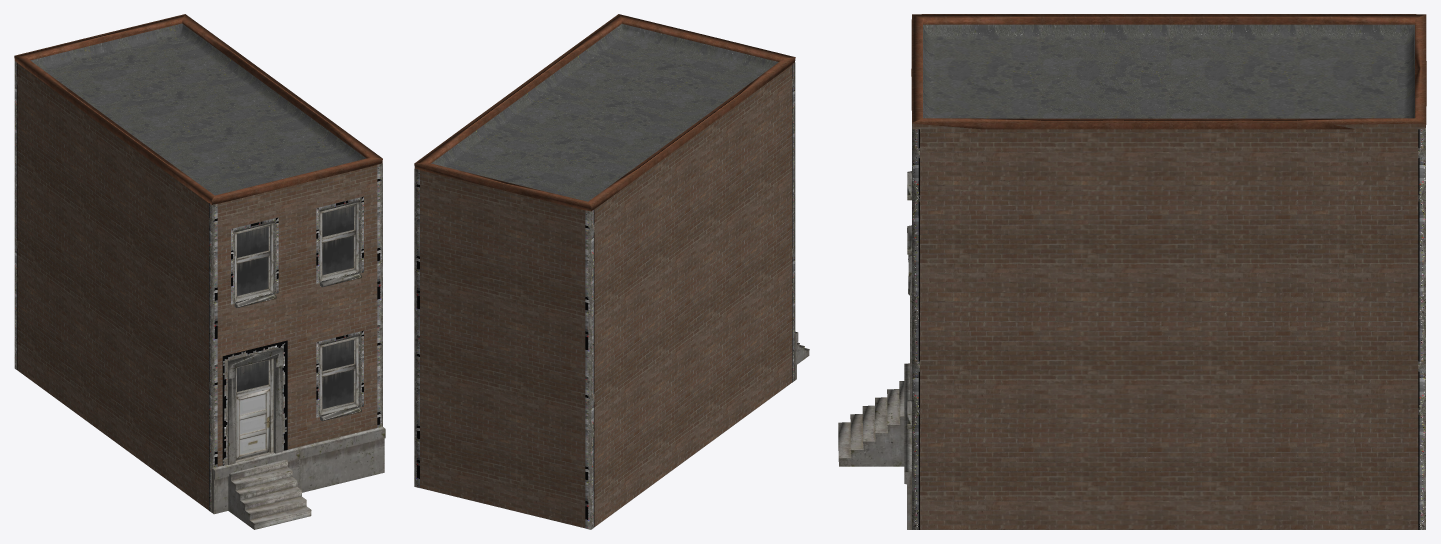
Rendered from rowhouse_2st_6x12.glb.
The picture shows the model from 3 angles, left to right: view 1: azimuth 30°, elevation 25°; view 2: azimuth 150°, elevation 25°; view 3: azimuth 270°, elevation 25°; orthographic projection. The views are drawn at different scales.
Parts seen in each view (by area): view 1: rowhouse_2st_6x12_LOD0; view 2: rowhouse_2st_6x12_LOD0; view 3: rowhouse_2st_6x12_LOD0.
Part boxes in pixels (x1,y1,x2,y2): rowhouse_2st_6x12_LOD0: (14,14,385,529); rowhouse_2st_6x12_LOD0: (414,14,809,529); rowhouse_2st_6x12_LOD0: (838,14,1426,529).
Bounding box in the file's own units: 6.04 × 10.5 × 13.76.
Materials: 7 (7 with a texture image).
